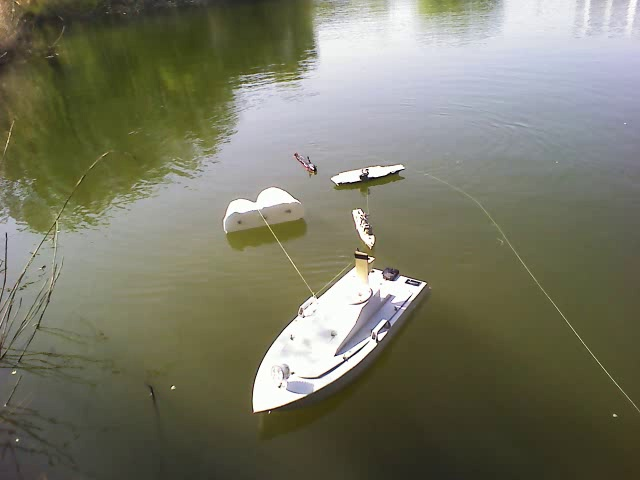aircraft_carrier: (332, 158, 409, 186)
boat: (251, 259, 428, 416)
iceberg: (220, 187, 306, 235)
submarine: (292, 147, 319, 175)
warship: (353, 206, 381, 248)
